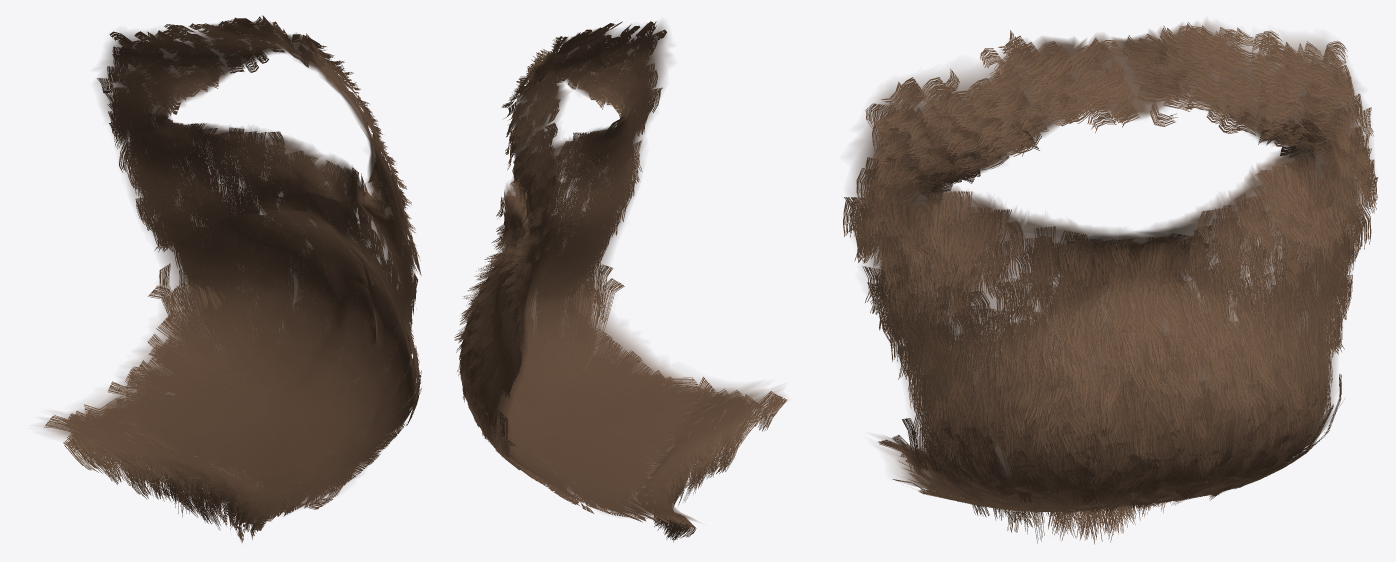
Rendered from beard-m3-goatee.glb.
3 views of the same model, side by side, from view 1: azimuth 30°, elevation 25°; view 2: azimuth 150°, elevation 25°; view 3: azimuth 270°, elevation 25° (orthographic). The views are drawn at different scales.
Parts seen in each view (by area): view 1: Beard_m3_goatee_root, Beard_m3_goatee_cards; view 2: Beard_m3_goatee_root, Beard_m3_goatee_cards; view 3: Beard_m3_goatee_cards, Beard_m3_goatee_root.
Part boxes in pixels (x1,y1,x2,y2): Beard_m3_goatee_root: [39, 20, 415, 523]; Beard_m3_goatee_cards: [44, 15, 421, 542]; Beard_m3_goatee_root: [469, 22, 783, 521]; Beard_m3_goatee_cards: [454, 21, 787, 542]; Beard_m3_goatee_cards: [843, 22, 1378, 544]; Beard_m3_goatee_root: [850, 20, 1371, 501].
Size of the model in its own units: 0.0666 by 0.0972 by 0.0841.
Materials: 2 (1 with a texture image).
